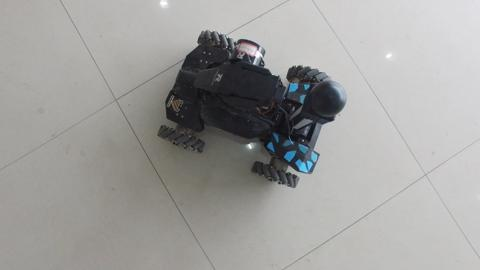chariot: (154, 34, 326, 187)
